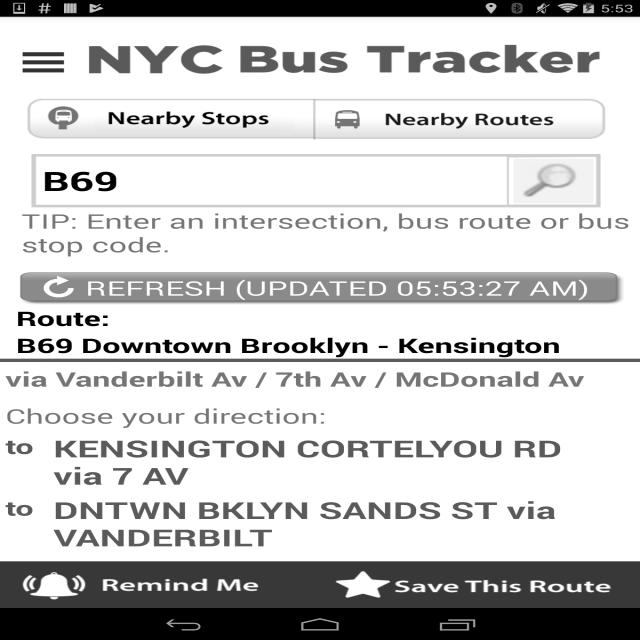Button: (0, 561, 320, 608), (320, 561, 640, 608), (16, 95, 315, 142), (315, 95, 613, 142)
EditText: (31, 154, 512, 207)
ImageButton: (0, 19, 60, 57)
ImageView: (501, 154, 608, 207), (32, 275, 85, 301)
TextView: (21, 207, 640, 258), (53, 494, 587, 553), (53, 433, 587, 491), (0, 556, 640, 603), (75, 603, 559, 636), (85, 274, 624, 302), (5, 366, 585, 392), (16, 332, 561, 358), (5, 402, 327, 430), (16, 304, 110, 332), (5, 432, 34, 460), (5, 494, 34, 522)
